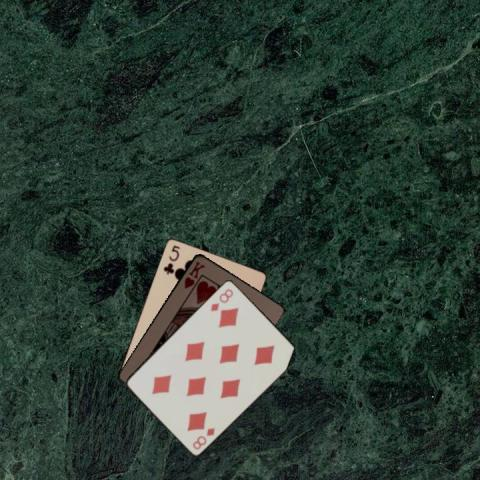5c: (160, 242, 181, 275)
8d: (207, 285, 235, 312), (190, 424, 216, 450)
Kh: (181, 258, 206, 291)
